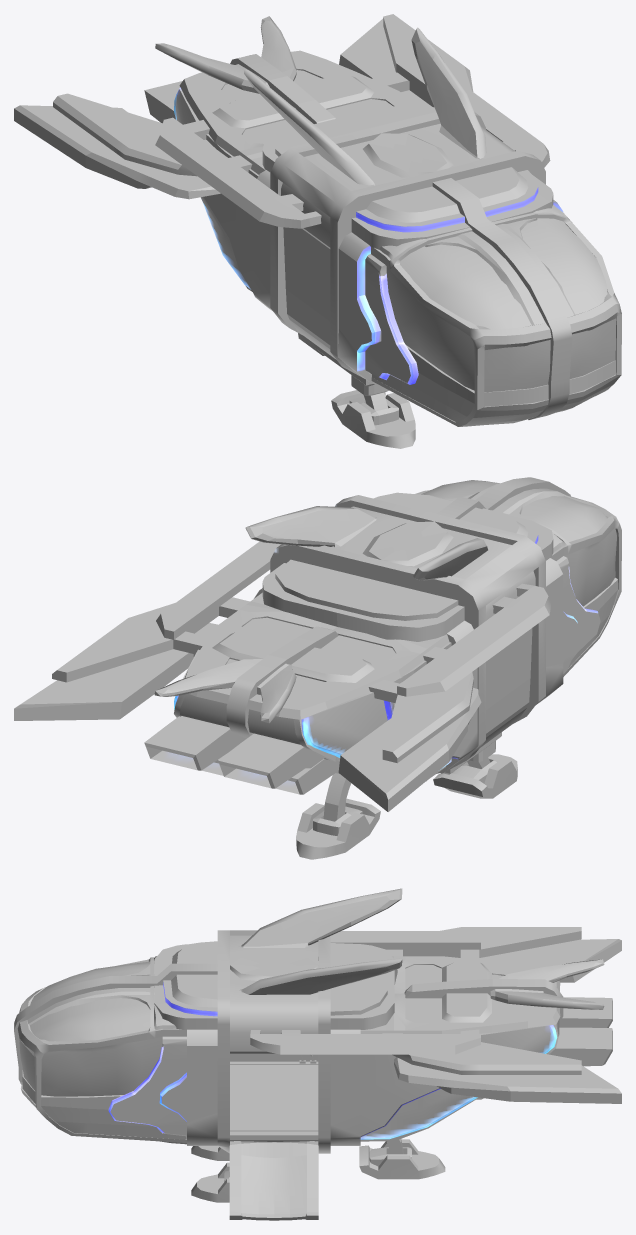
Rendered from Hub.fbx.
3 renders of one model, top to bottom at view 1: azimuth 30°, elevation 25°; view 2: azimuth 150°, elevation 25°; view 3: azimuth 270°, elevation 25°, orthographic. The views are drawn at different scales.
Visible parts, largest first — view 1: Object_4, Object_5, Object_6; view 2: Object_4, Object_5, Object_6; view 3: Object_4, Object_5, Object_6.
Boxes of the visible parts, x1,y1,x2,y2 form: Object_4: (53, 14, 621, 448); Object_5: (14, 16, 616, 436); Object_6: (386, 218, 616, 392); Object_4: (52, 477, 621, 859); Object_5: (14, 482, 618, 847); Object_6: (421, 480, 616, 606); Object_4: (14, 888, 611, 1214); Object_5: (14, 888, 621, 1220); Object_6: (19, 961, 162, 1096).
Size of the model in its own units: 1755 by 1323 by 2943.
